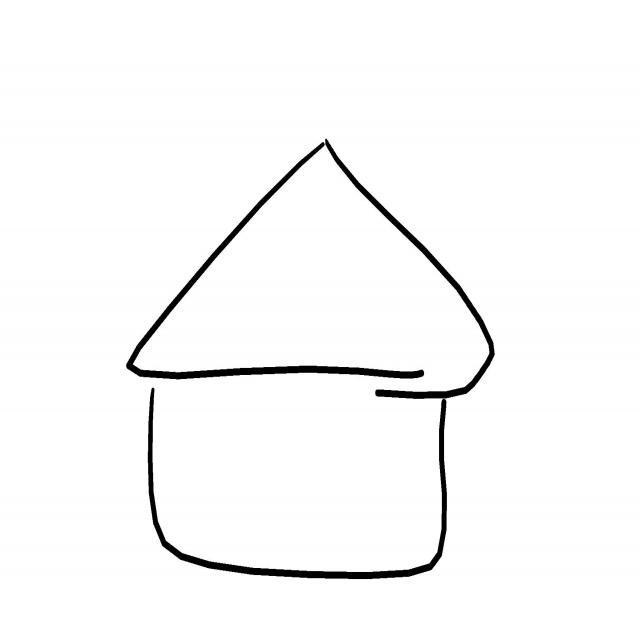house: (127, 139, 495, 580)
roof: (128, 141, 491, 394)
wall: (149, 376, 448, 580)
